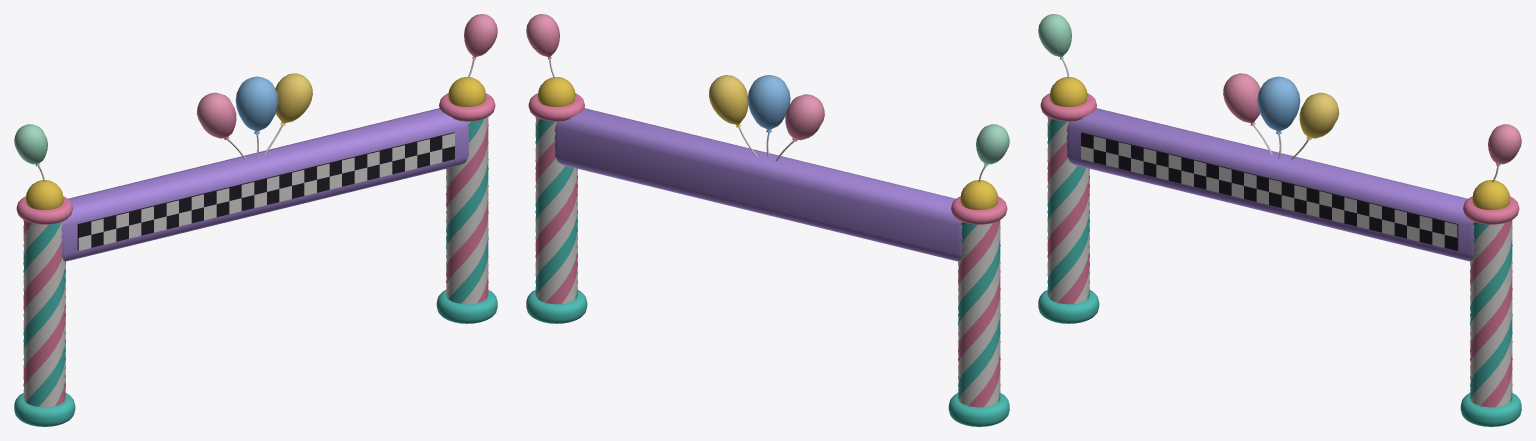
Rendered from finish_gate.glb.
The picture shows the model from 3 angles, left to right: view 1: azimuth 30°, elevation 25°; view 2: azimuth 150°, elevation 25°; view 3: azimuth 330°, elevation 25°; orthographic projection.
Parts seen in each view (by area): view 1: finish_gate; view 2: finish_gate; view 3: finish_gate.
Boxes of the visible parts, <box> form: finish_gate: <box>14,14,497,426</box>; finish_gate: <box>526,14,1009,426</box>; finish_gate: <box>1038,14,1521,426</box>.
Size of the model in its own units: 7.26 by 4.26 by 0.8.
